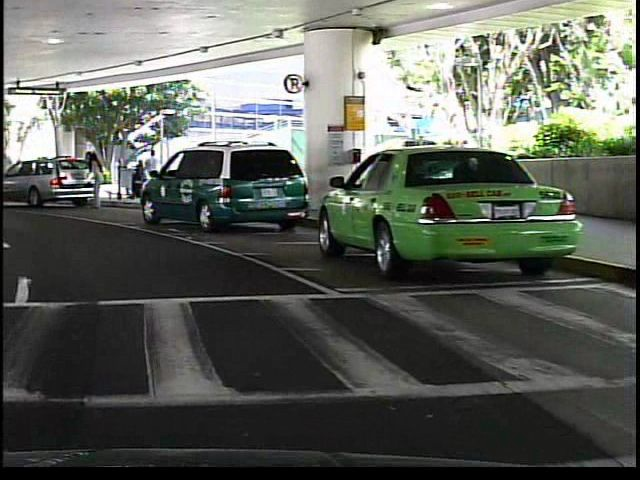person: (83, 149, 102, 208)
